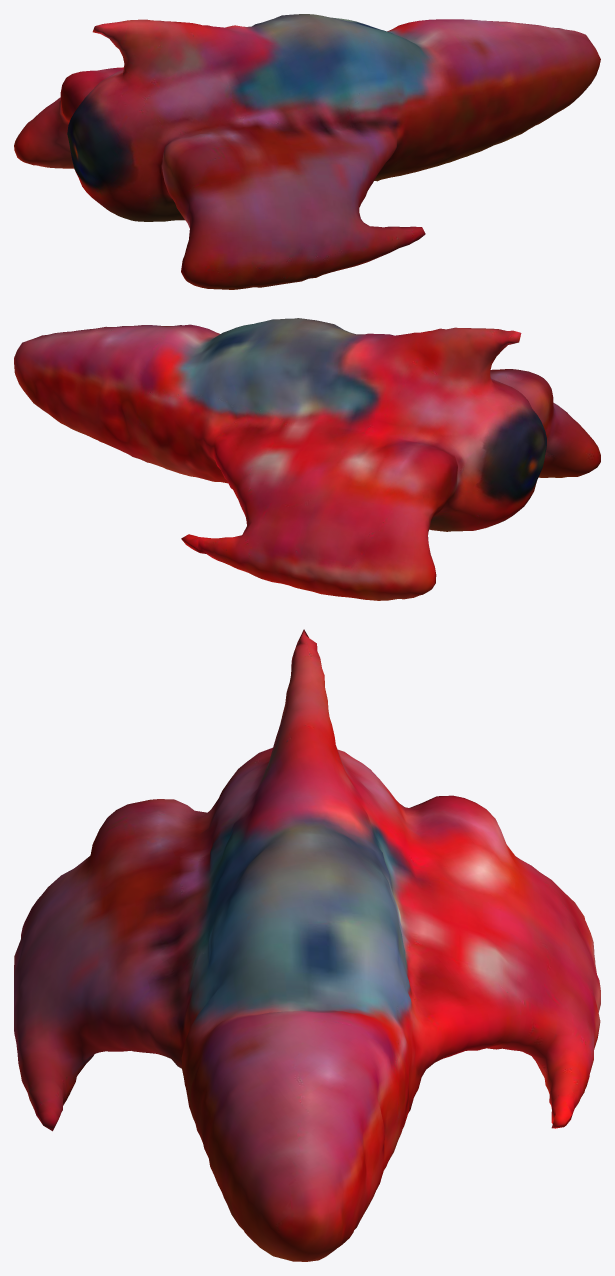
The model's file is Red_ship_2.glb.
3 views of the same model, one above another, from view 1: azimuth 30°, elevation 25°; view 2: azimuth 150°, elevation 25°; view 3: azimuth 270°, elevation 25° (orthographic). The views are drawn at different scales.
Parts seen in each view (by area): view 1: Mesh1; view 2: Mesh1; view 3: Mesh1.
Boxes of the visible parts, x1,y1,x2,y2 form: Mesh1: (14, 14, 600, 289); Mesh1: (14, 318, 600, 600); Mesh1: (14, 629, 600, 1261).
Size of the model in its own units: 1.2 by 0.4907 by 0.7704.
1 material, 1 textured.
